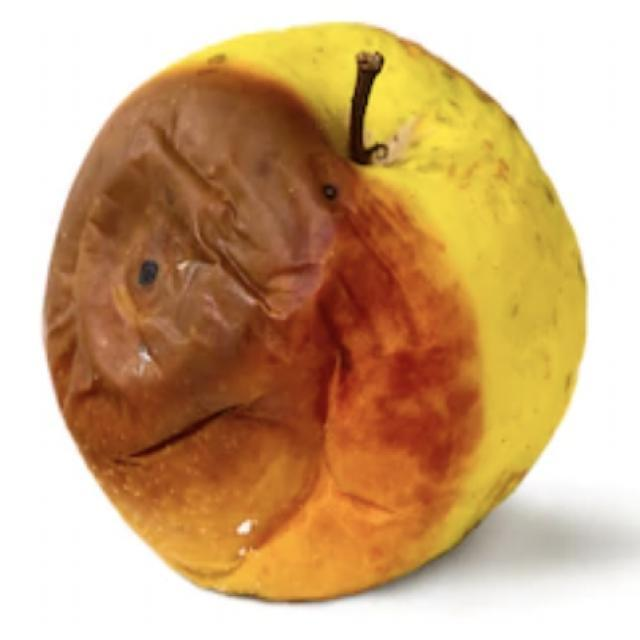Rotten: (48, 23, 592, 590)
